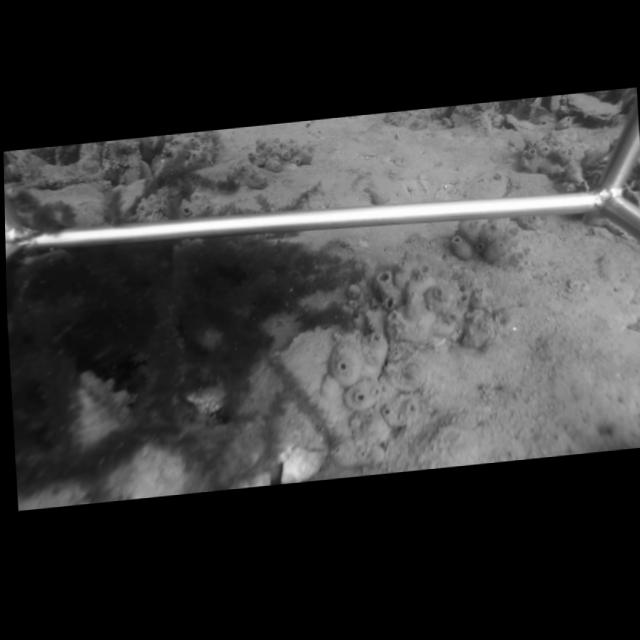Oyster-Closed: (561, 93, 627, 121)
